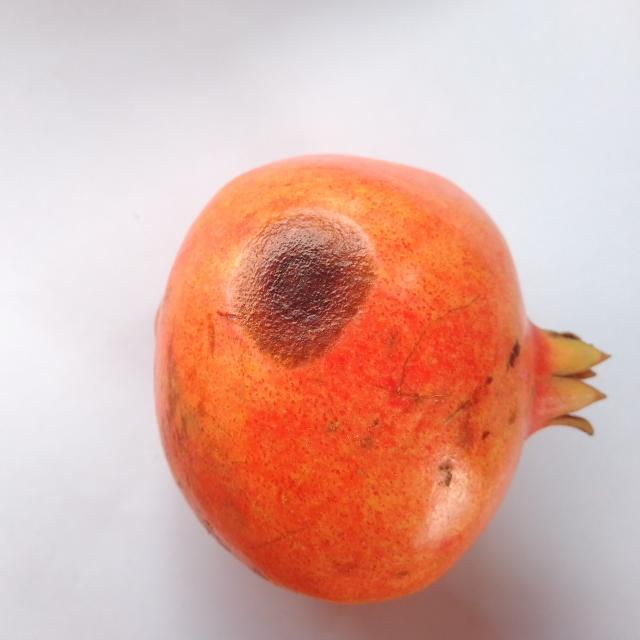Rotten: (144, 145, 608, 608)
